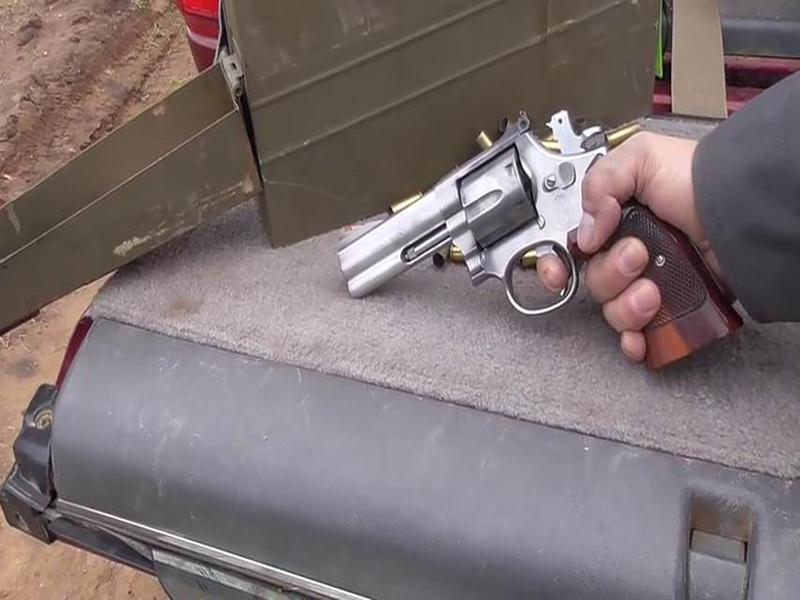Revolver: (317, 79, 727, 384)
